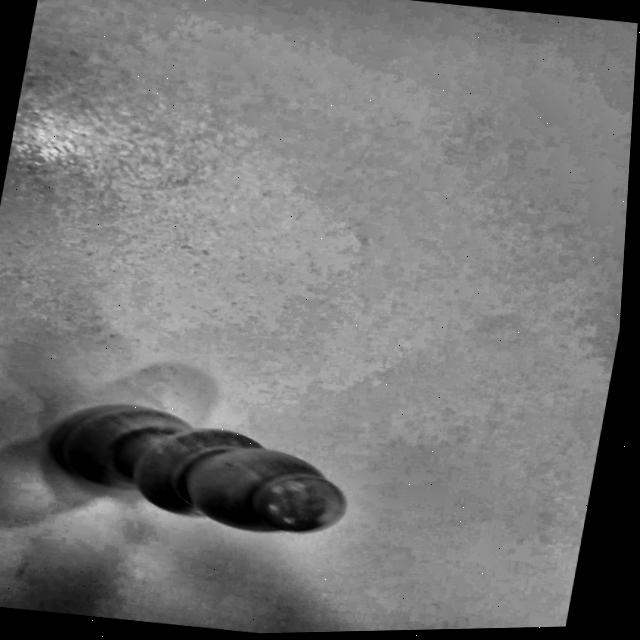white-bishop: (3, 364, 430, 596)
